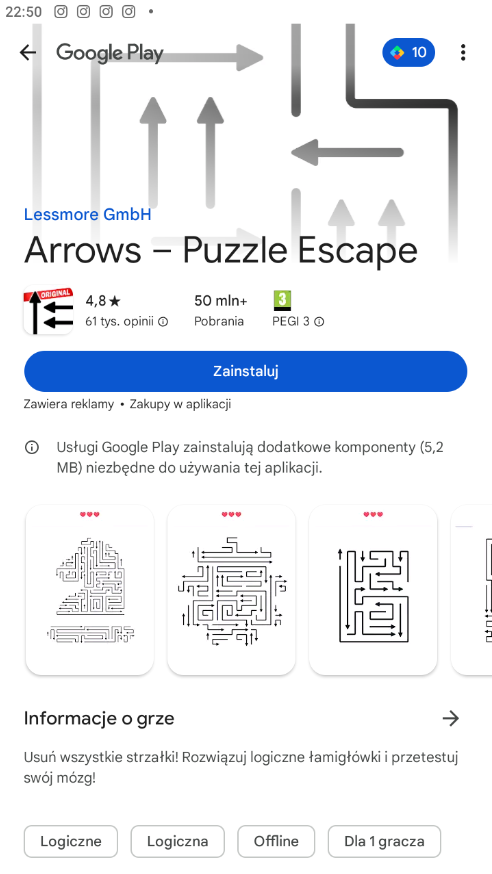store_logo: (48, 34, 169, 74)
